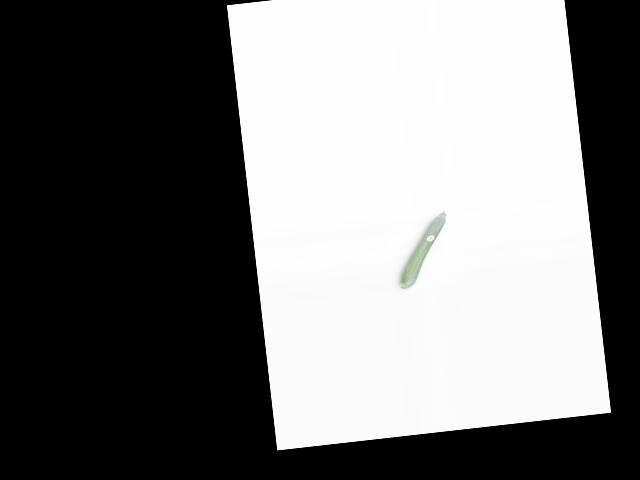cucumber: (391, 210, 453, 289)
